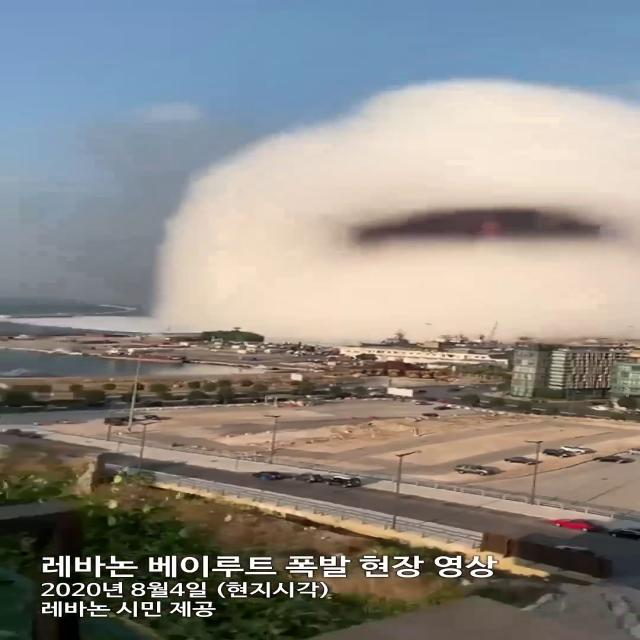explosion: (127, 70, 640, 357)
